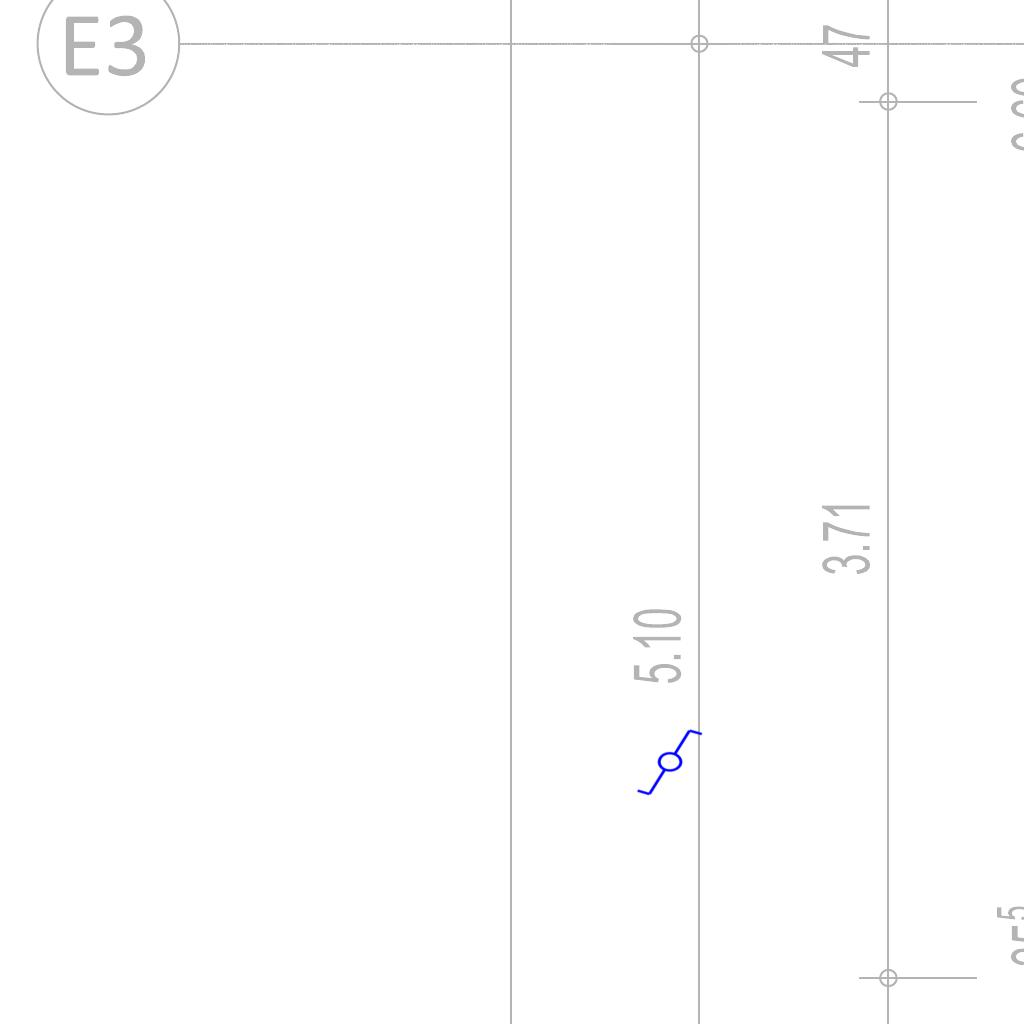Wechselschalter: (635, 727, 713, 799)
